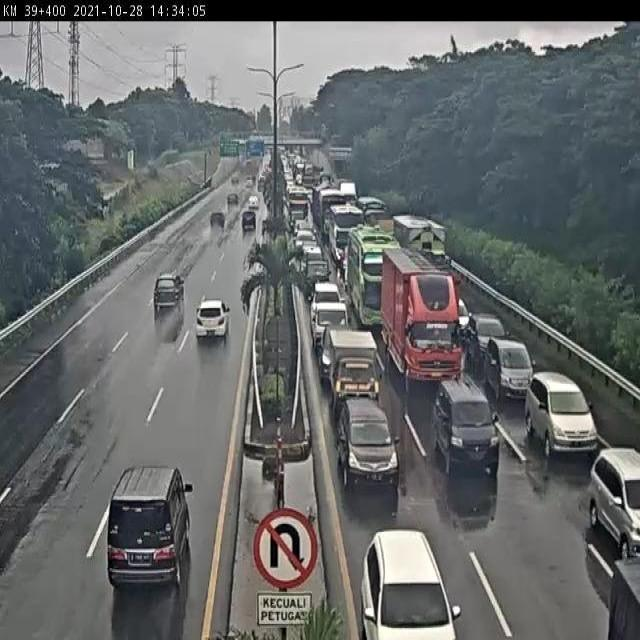bus-l-: (348, 228, 401, 329), (326, 204, 366, 260)
car: (362, 516, 455, 640), (108, 467, 193, 588), (329, 391, 397, 486), (433, 380, 500, 476), (520, 364, 591, 452), (585, 445, 640, 535), (322, 328, 384, 405), (488, 339, 533, 401), (309, 296, 350, 352), (466, 313, 508, 360), (192, 295, 231, 341), (153, 270, 185, 314), (298, 258, 330, 298), (447, 293, 470, 335), (296, 238, 320, 266), (312, 278, 340, 302), (294, 222, 312, 242)
truck-l-: (380, 247, 459, 393), (393, 213, 454, 284)
